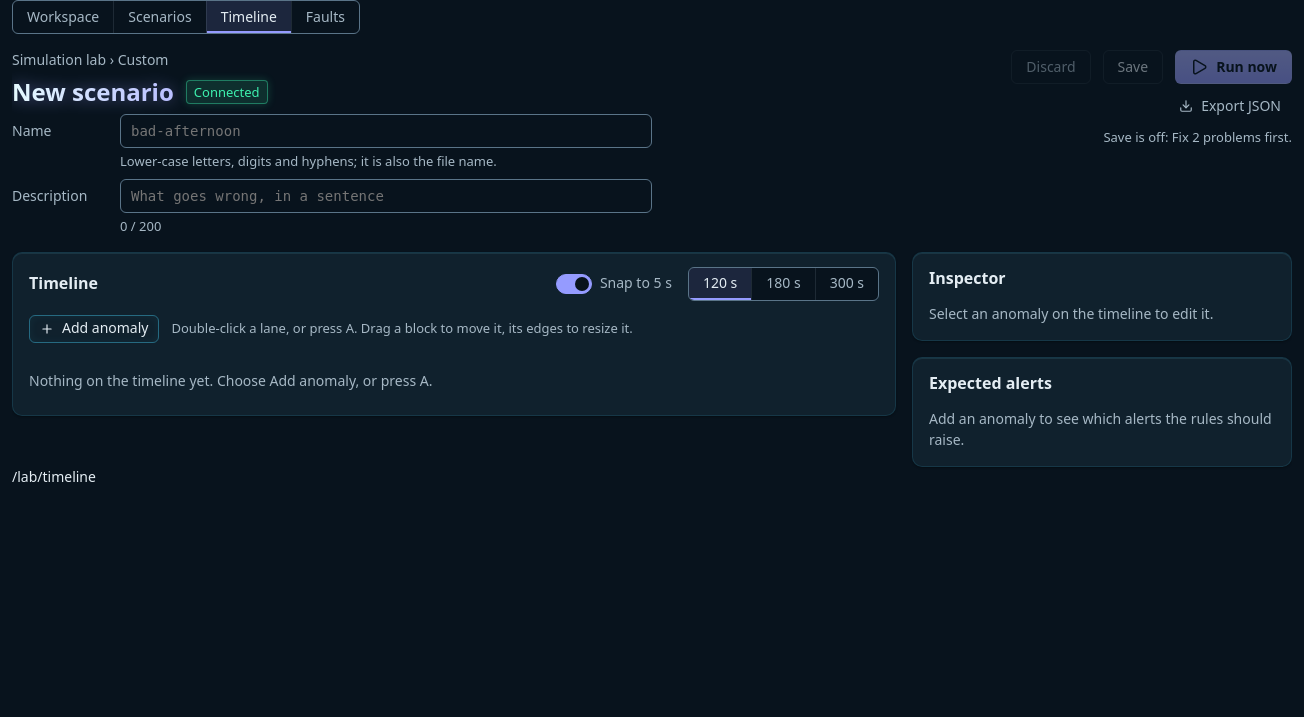
Scenario: Timeline: building a scenario › adds an anomaly, names the scenario, saves it, and the address points at it
The width and height of the screenshot is (1304, 717).
Click the button "Add anomaly" at (94, 329), box top-left (29, 315), bottom-right (160, 343)
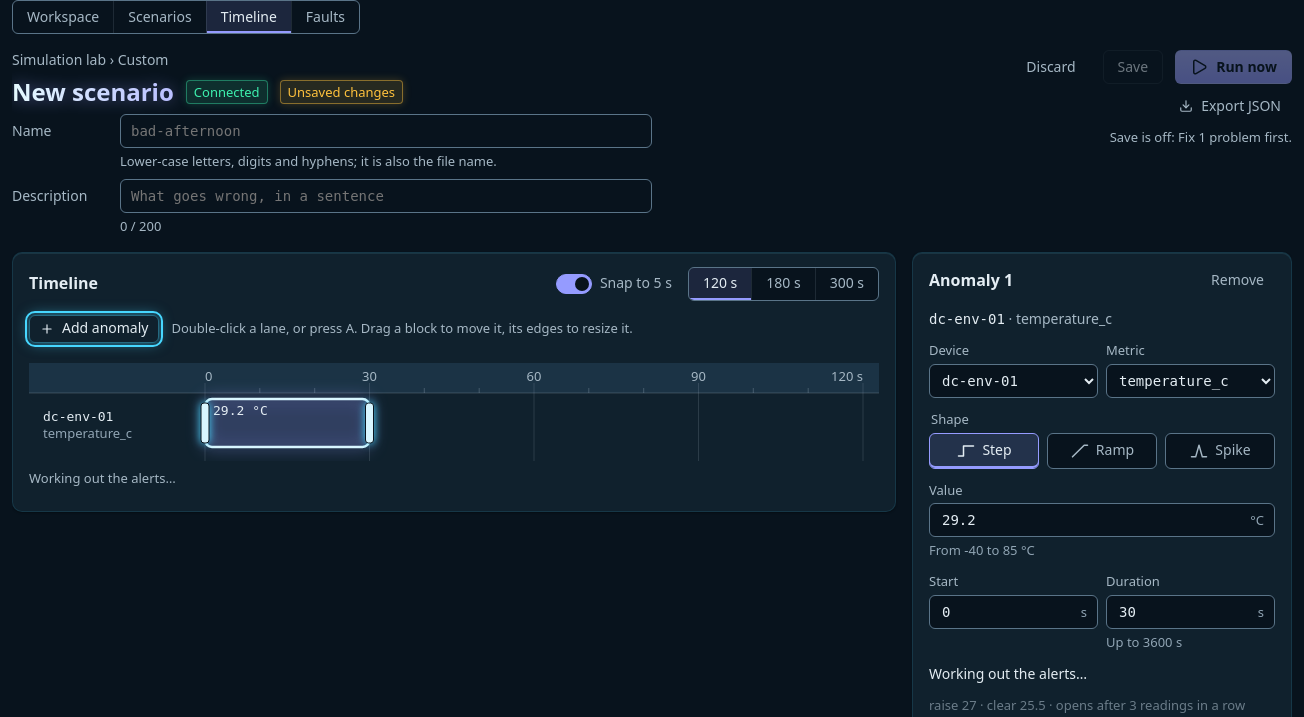
Result: the heading "Anomaly 1" is shown at top-left (929, 269), bottom-right (1013, 292)
Result: the text "Unsaved changes" is shown at top-left (280, 80), bottom-right (403, 104)
Type "fresh" into the field labelled "Name" at (386, 131), box top-left (120, 114), bottom-right (652, 148)
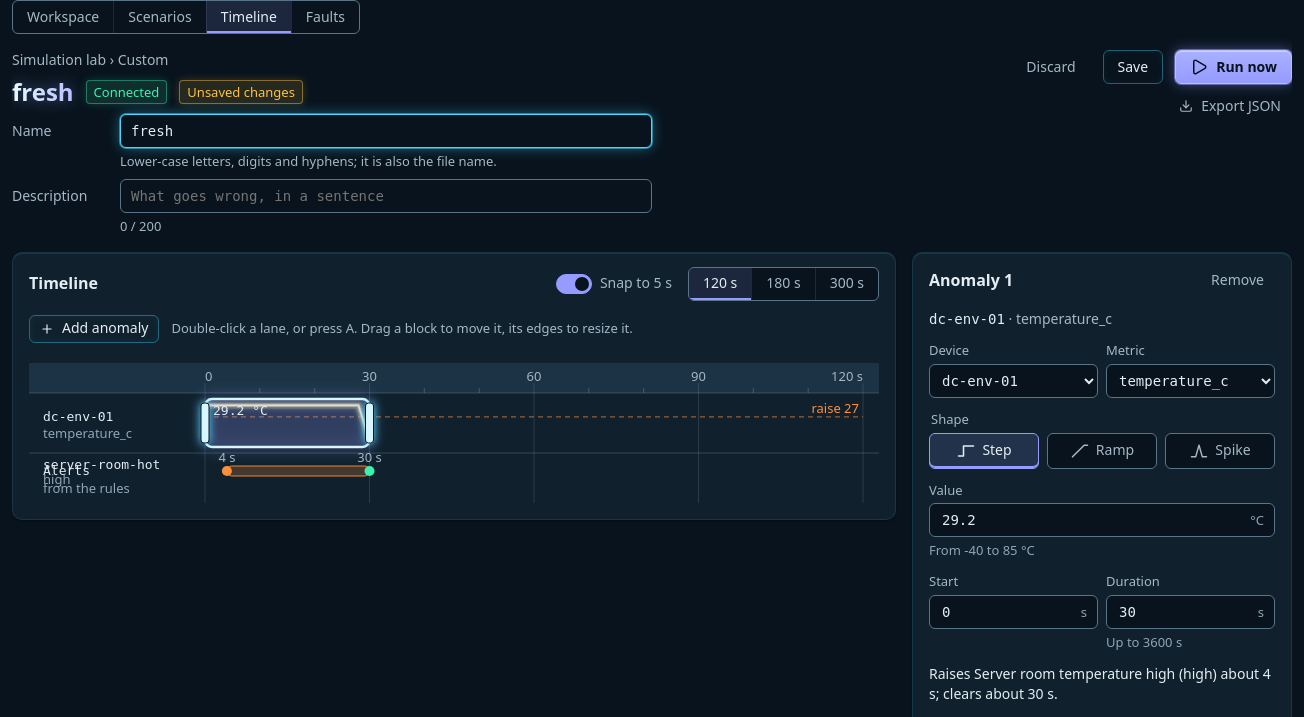
Click the button "Save" at (1133, 67), box top-left (1103, 50), bottom-right (1163, 84)
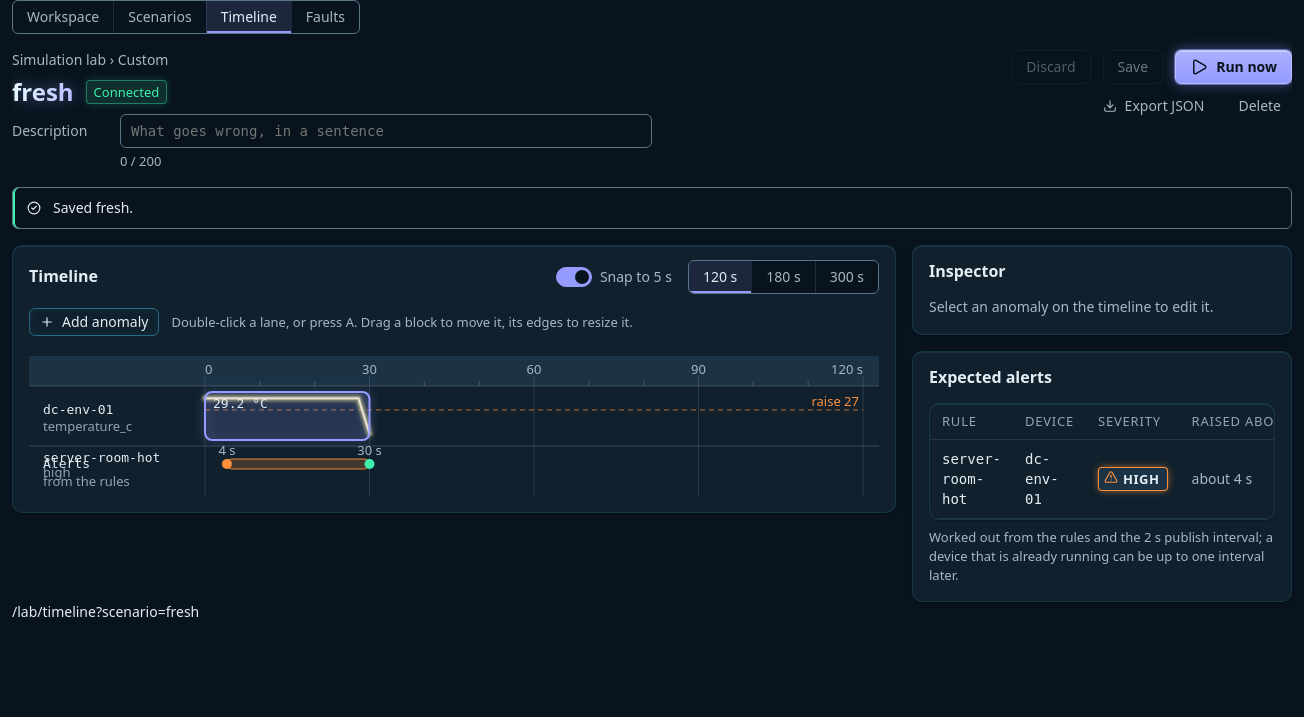
Result: the heading "fresh" is shown at top-left (12, 78), bottom-right (74, 106)
Result: the text "Saved fresh." is shown at top-left (53, 198), bottom-right (133, 217)
Result: the text with test id "location" reads "/lab/timeline?scenario=fresh" at top-left (12, 602), bottom-right (199, 621)
